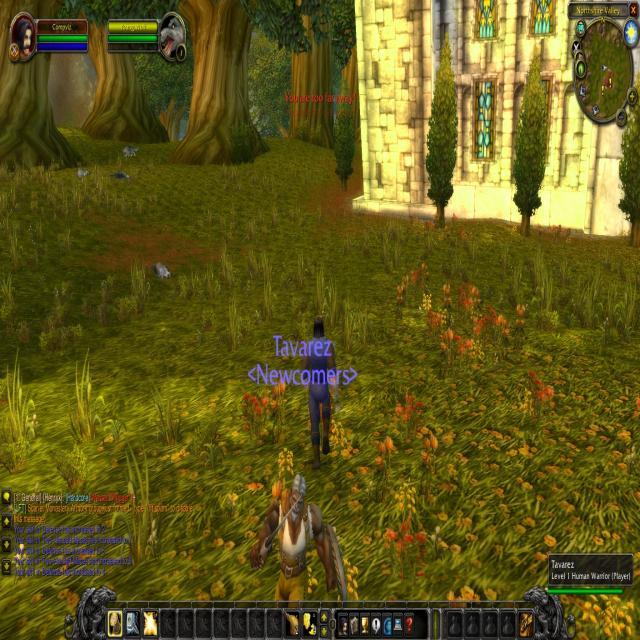wolf: (150, 257, 177, 287), (118, 140, 142, 165), (107, 167, 132, 187), (74, 161, 92, 184)
